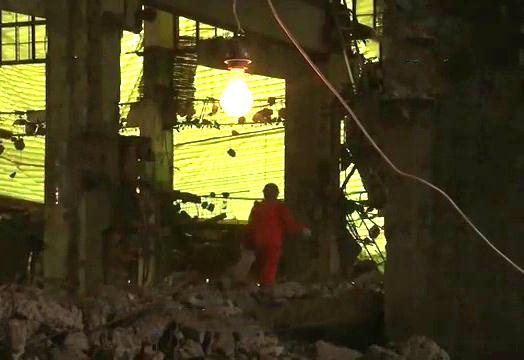helmet: (262, 183, 280, 201)
